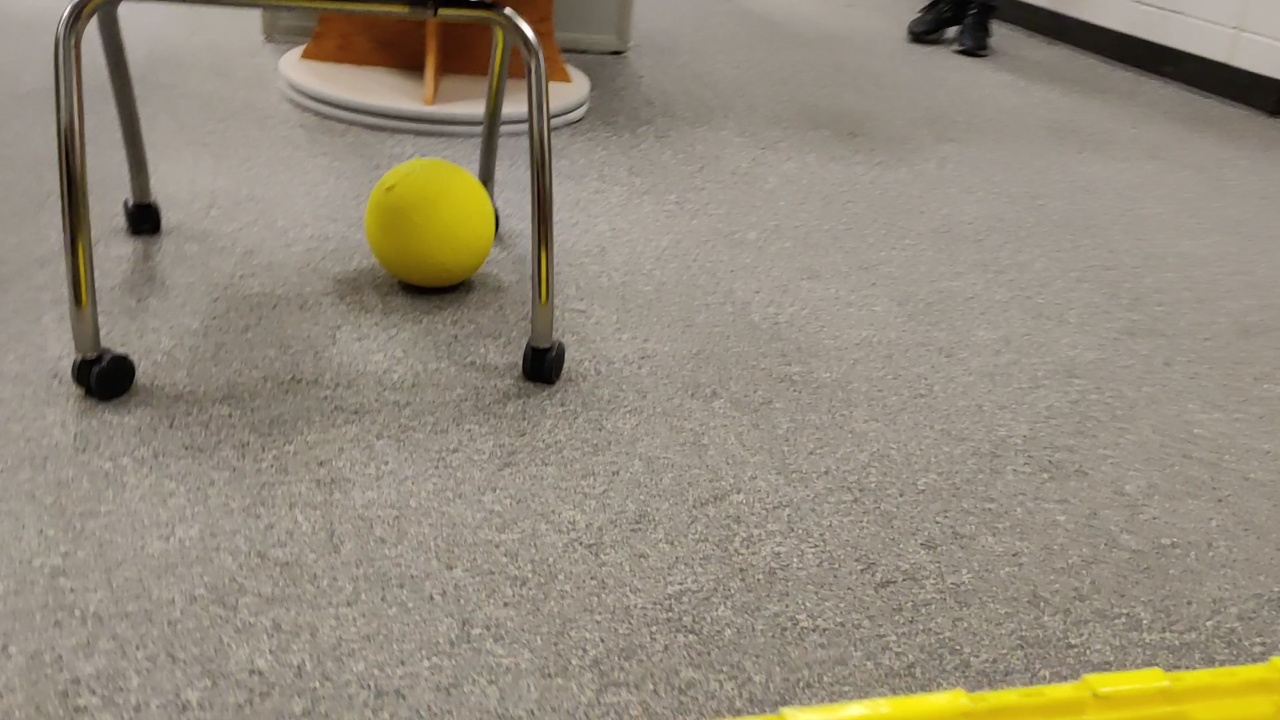Ball: (371, 159, 496, 292)
